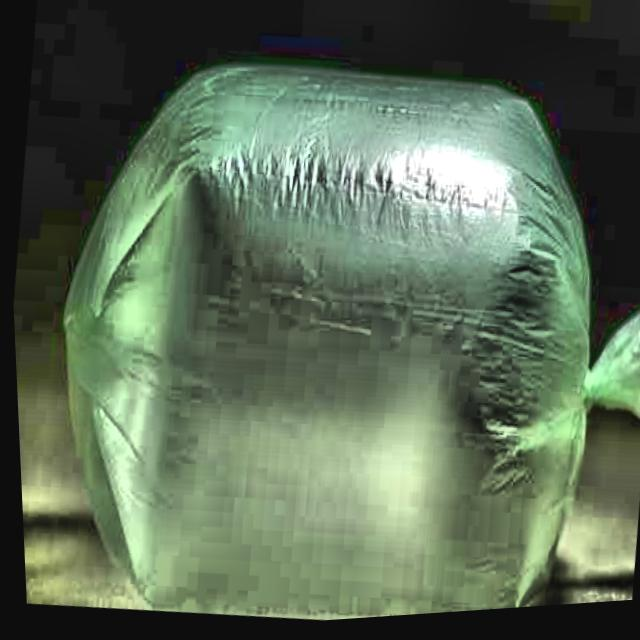Plastic: (15, 5, 640, 639)
